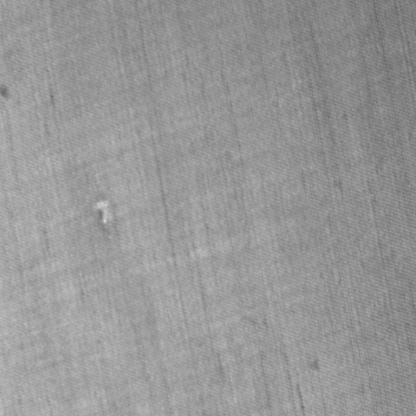hole: (93, 195, 111, 229)
